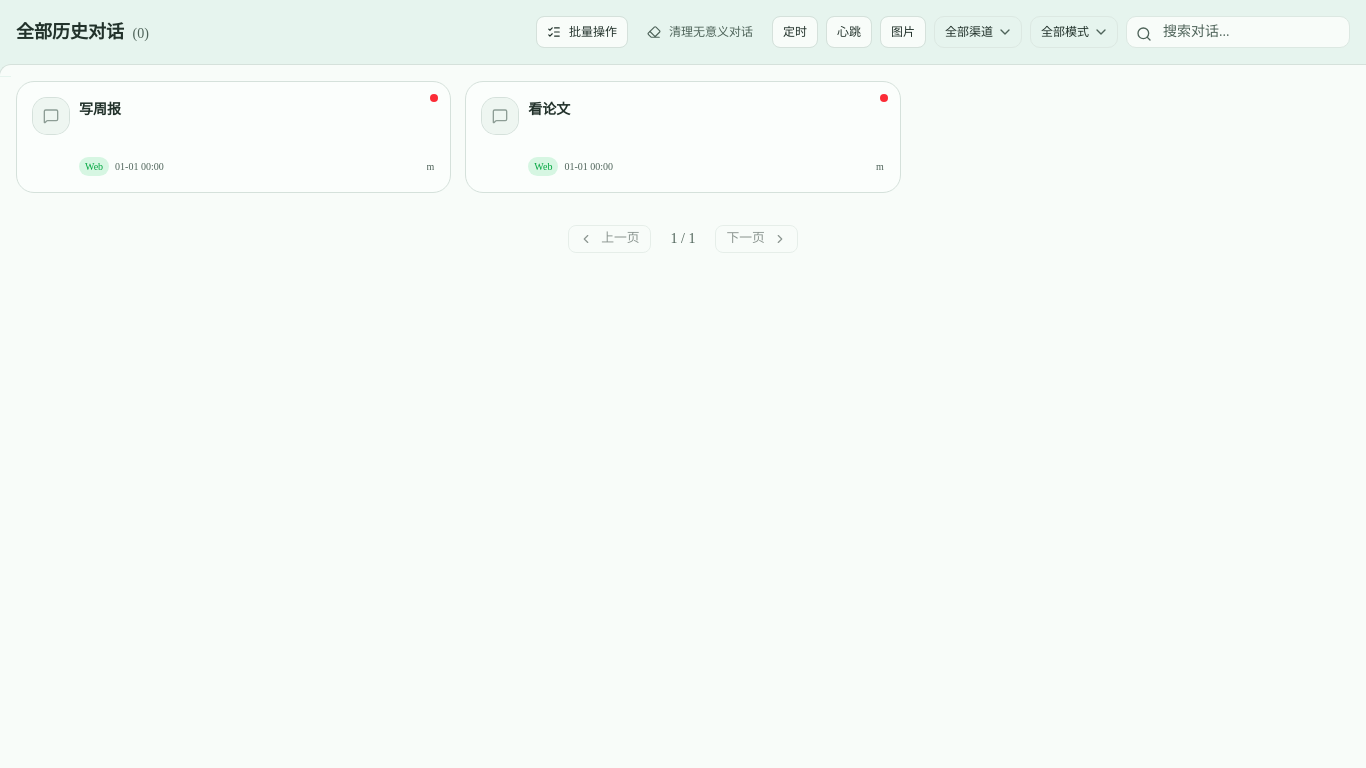
Test case: 全部对话页 · 批量操作 › 批量删除要先确认，确认后提示 deleted 与 missing
Expected: the heading "写周报" is shown, 79,102 -> 121,117
Click the button titled "进入批量操作" at x=582, y=32, box 536,16 -> 628,48
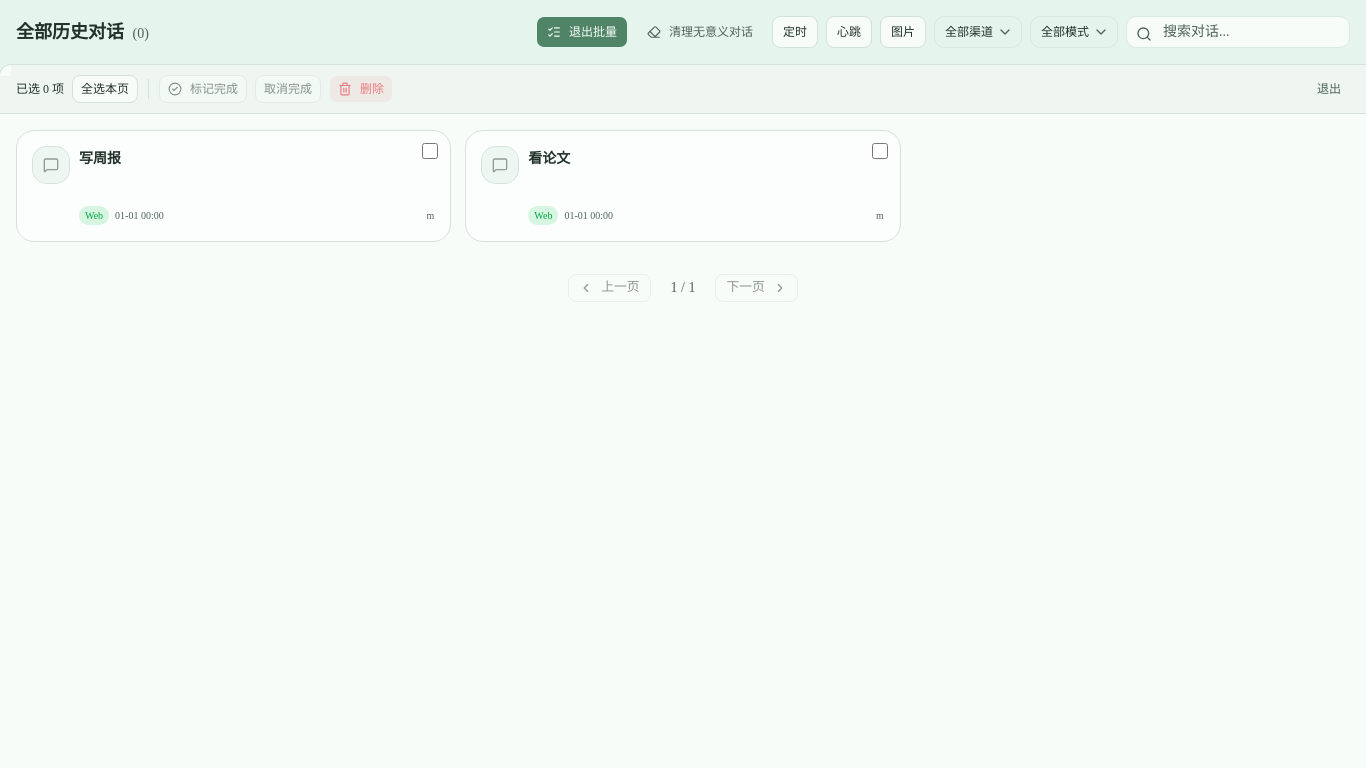
Click the checkbox named "选择对话" in the row of "写周报" at x=430, y=151, box 422,143 -> 438,159
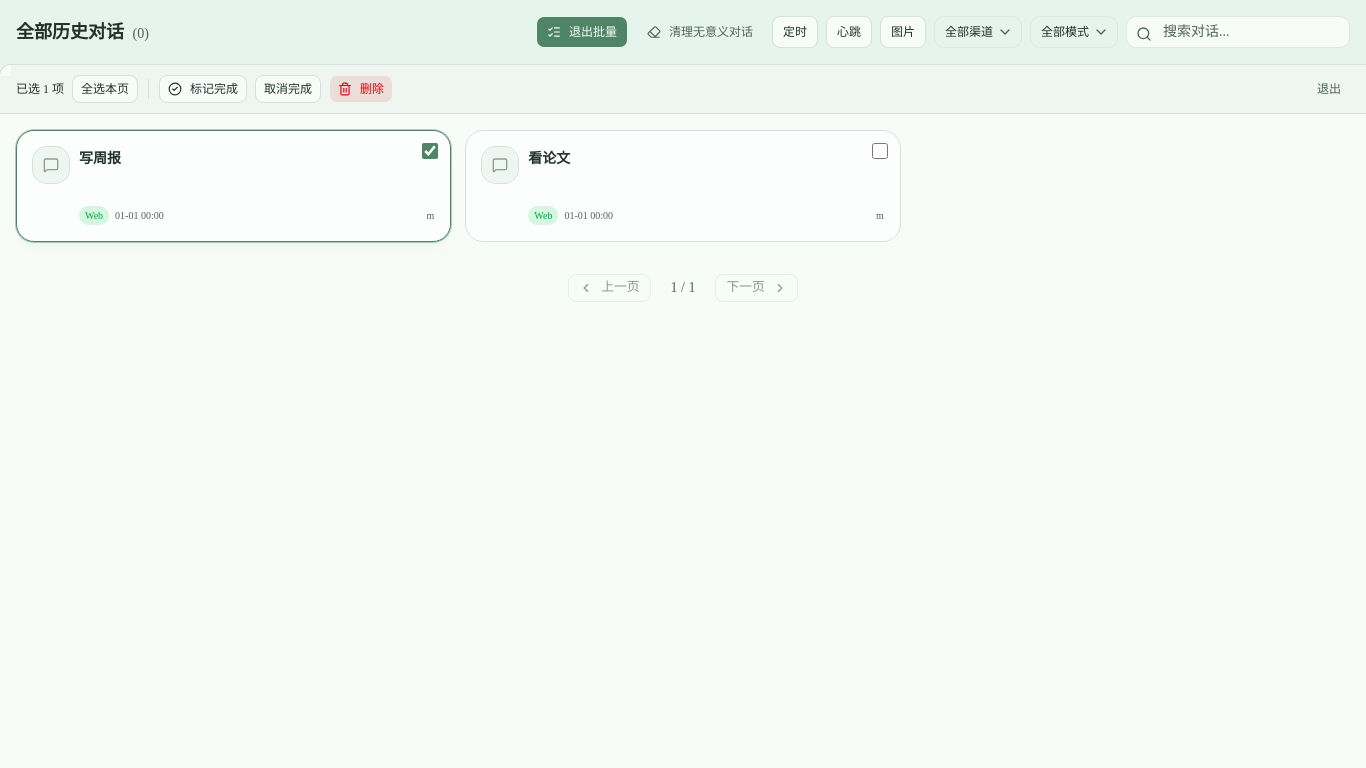
Click the button "删除" at x=361, y=89, box 329,75 -> 393,103
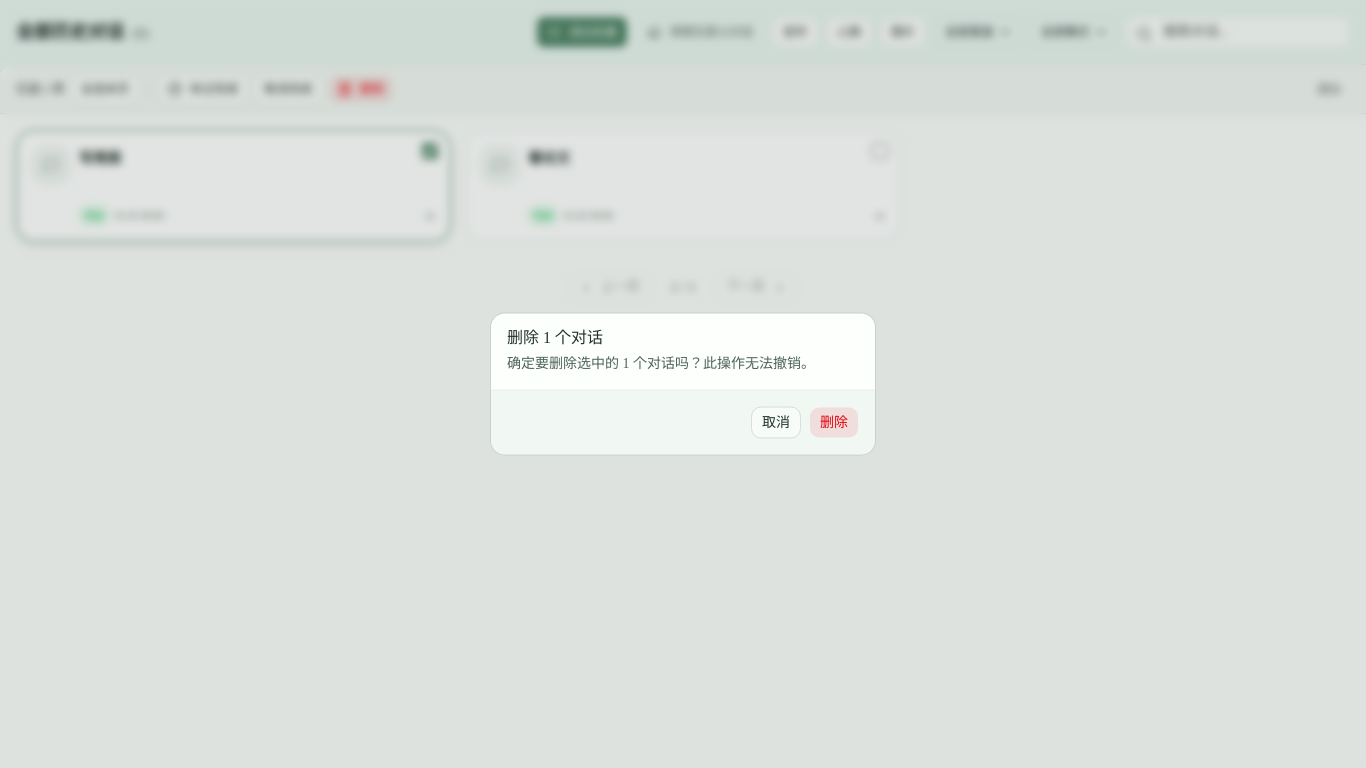
Click the button "删除" at x=834, y=422, box 809,406 -> 859,438
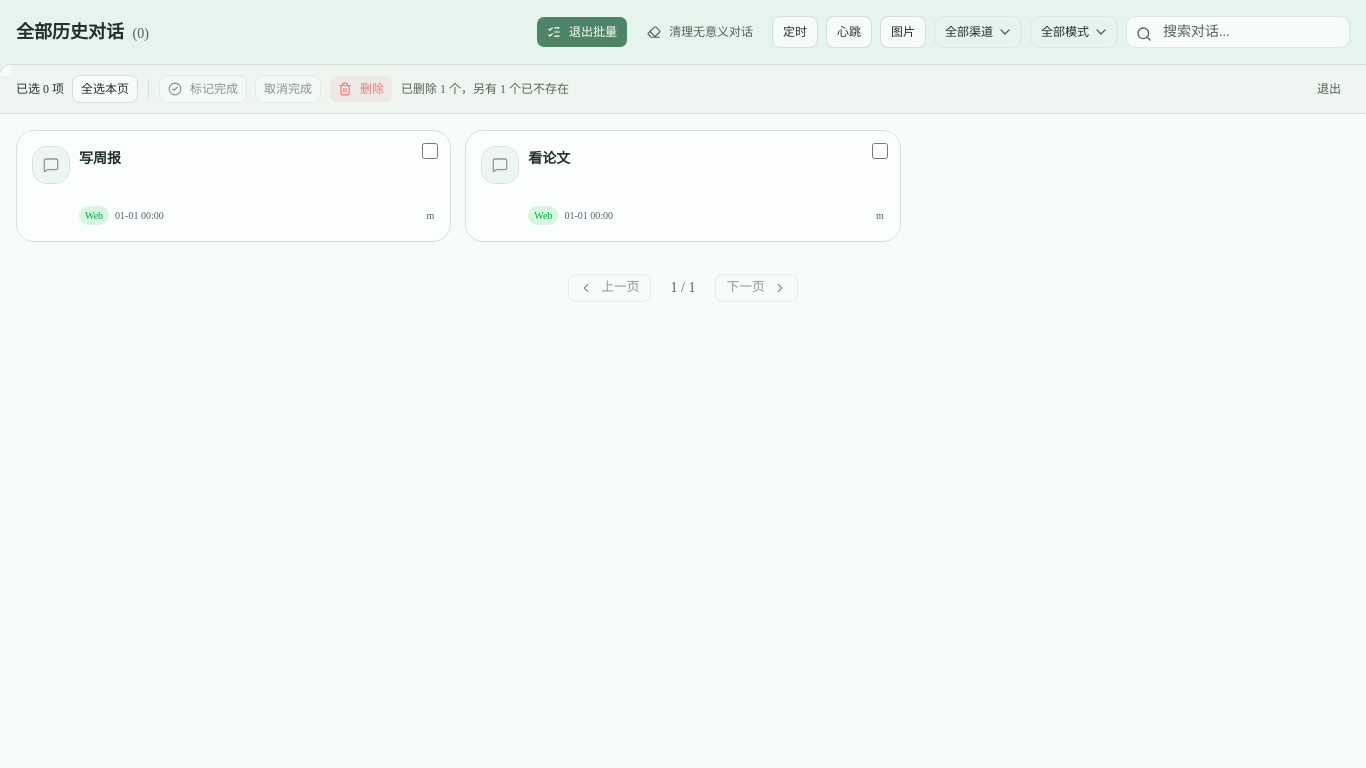
Expected: the text "已删除 1 个，另有 1 个已不存在" is shown, 401,81 -> 569,97
